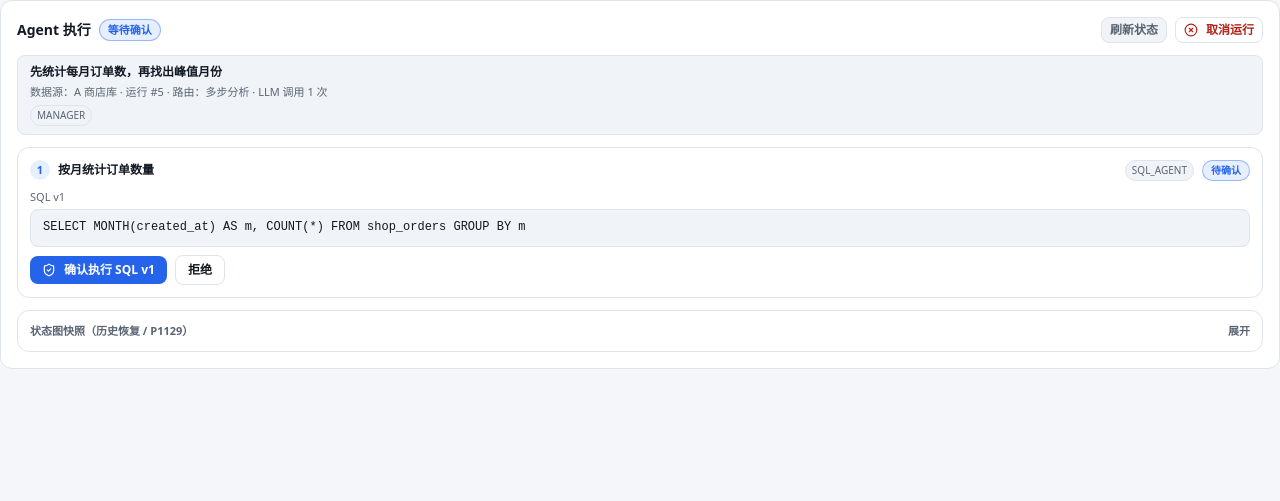
Test case: AgentTimeline › P11 展开状态图快照以核对历史恢复数据
Expected: the text "状态图快照（历史恢复 / P1129）" is shown, [30,322,193,339]
What coordinates should you click on to do the following:
click the button "状态图快照（历史恢复 / P1129） 展开"
I would click on:
 (112, 330)
Its box is [30,322,1250,339].
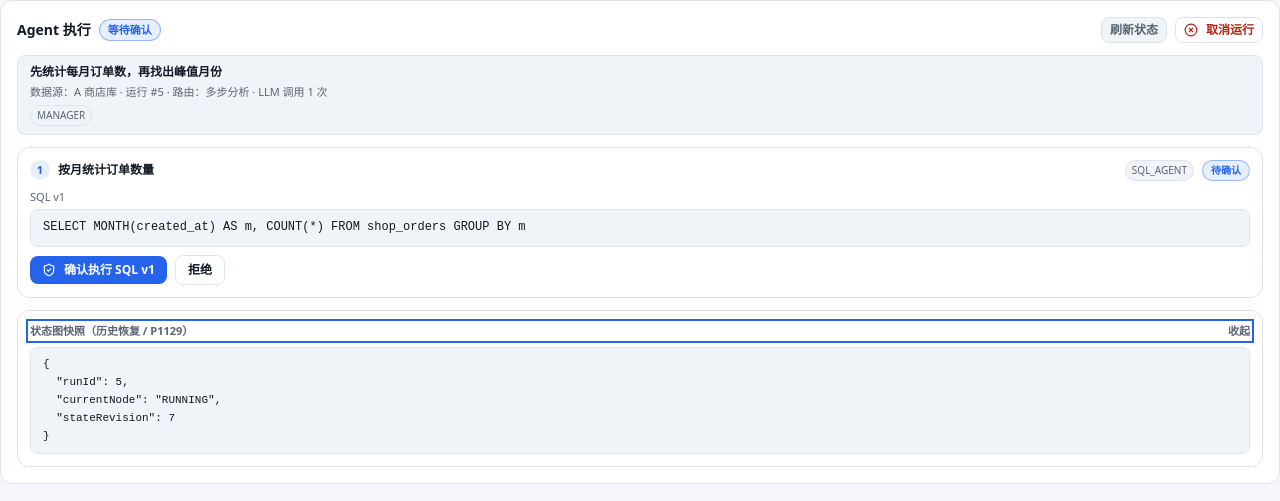
Now the text "{ \"runId\": 5, \"currentNode\": \"RUNNING\", \"stateRevision\": 7 }" is shown, box [43,358,221,442]
